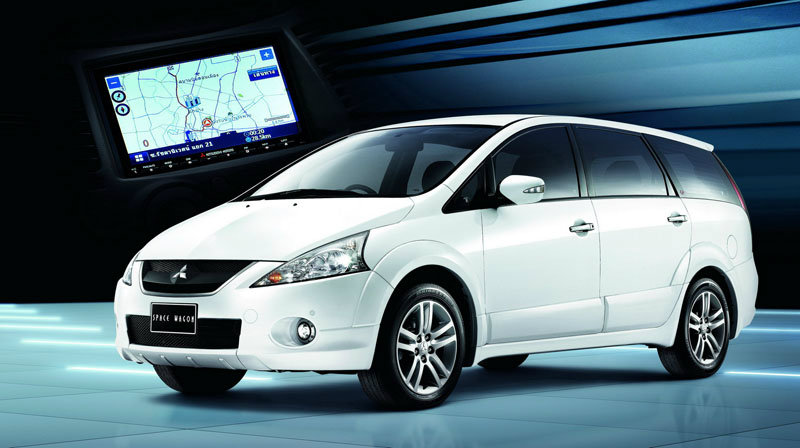van: (115, 110, 759, 407)
